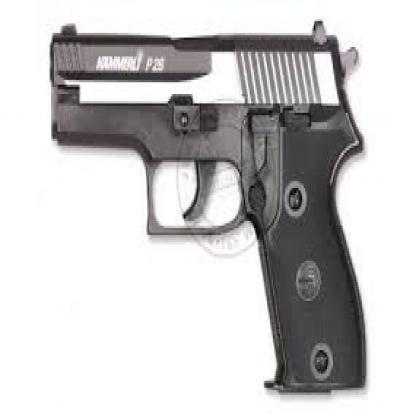Pistol: (46, 17, 367, 390)
